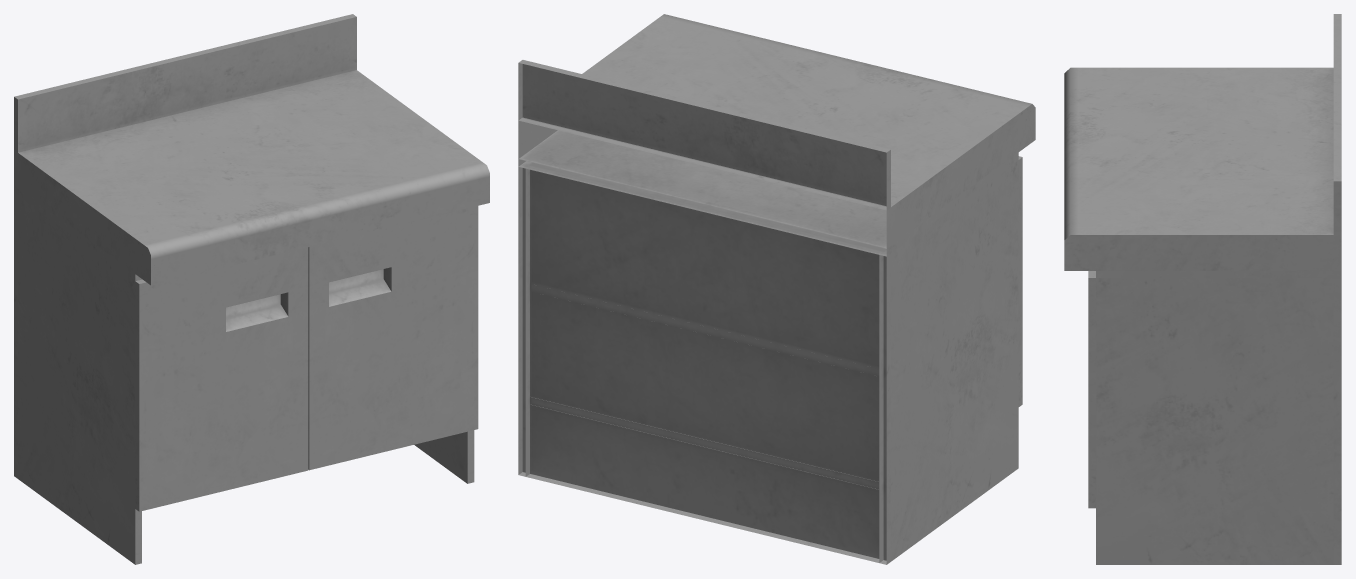
File: KitchenCabinet_A.FBX
3 renders of one model, left to right at view 1: azimuth 30°, elevation 25°; view 2: azimuth 150°, elevation 25°; view 3: azimuth 270°, elevation 25°, orthographic. The views are drawn at different scales.
Visible parts, largest first — view 1: KitchenCabinet_A, Door_L, Door_R; view 2: KitchenCabinet_A, Door_L; view 3: KitchenCabinet_A, Door_R.
Boxes of the visible parts, x1,y1,x2,y2 form: KitchenCabinet_A: (14,14,489,564); Door_L: (135,247,308,511); Door_R: (308,206,478,470); KitchenCabinet_A: (518,14,1035,564); Door_L: (1018,156,1022,406); KitchenCabinet_A: (1064,14,1341,564); Door_R: (1088,271,1095,508).
Size of the model in its own units: 100 by 107 by 70.
